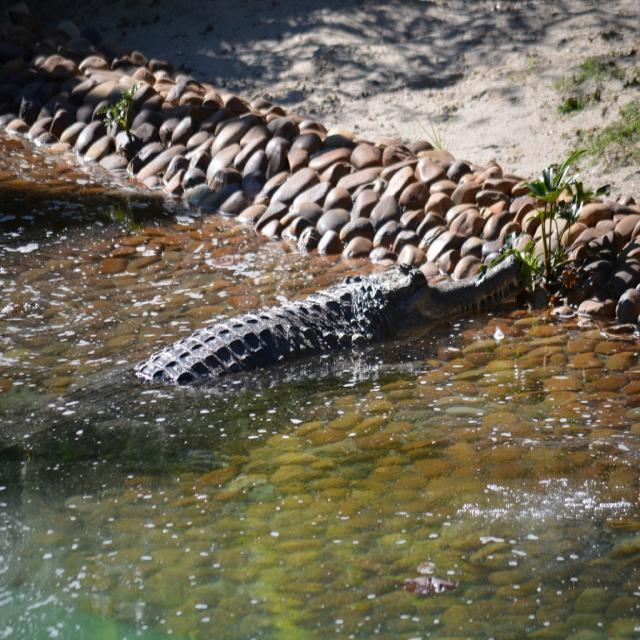crocodile: (130, 251, 533, 393)
